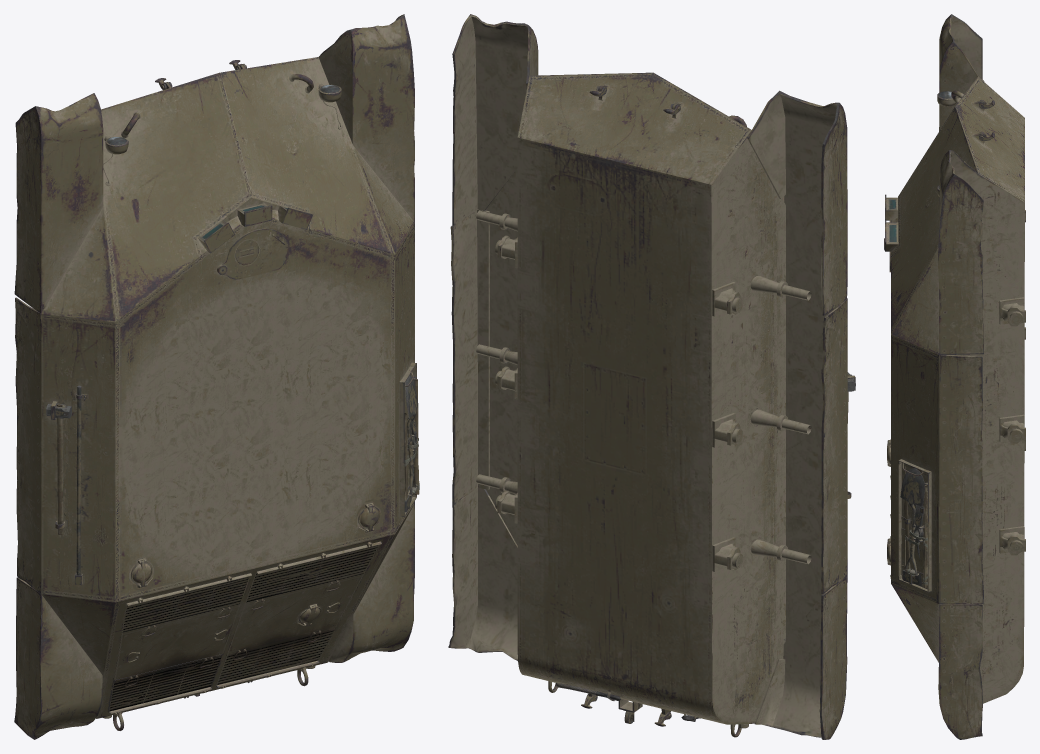
File: Hull.glb
The picture shows the model from 3 angles, left to right: view 1: azimuth 30°, elevation 25°; view 2: azimuth 150°, elevation 25°; view 3: azimuth 270°, elevation 25°; orthographic projection. The views are drawn at different scales.
Visible parts, largest first — view 1: set_0_group_0; view 2: set_0_group_0; view 3: set_0_group_0.
Boxes of the visible parts, left/top/right/bottom form: set_0_group_0: left=14, top=14, right=419, bottom=739; set_0_group_0: left=448, top=14, right=855, bottom=739; set_0_group_0: left=884, top=14, right=1025, bottom=739.
Bounding box in the file's own units: 3.08 × 5.05 × 1.12.
Materials: 1 (1 with a texture image).
